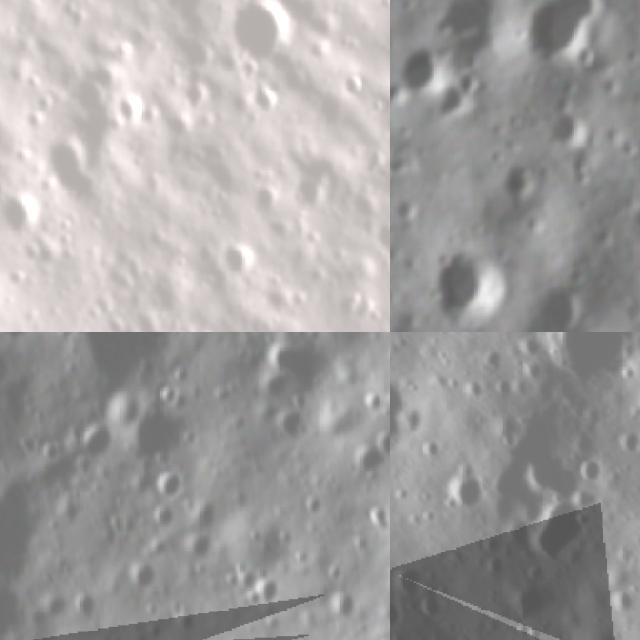crater: (45, 332, 188, 392), (509, 483, 601, 570), (533, 332, 640, 393), (436, 242, 514, 325), (525, 0, 608, 59), (47, 133, 110, 208), (231, 0, 305, 63), (0, 483, 42, 586), (505, 436, 572, 497), (499, 572, 560, 628), (439, 459, 497, 517), (390, 368, 422, 460), (73, 420, 124, 469), (394, 46, 451, 84), (0, 193, 41, 244), (0, 586, 38, 640), (245, 573, 292, 616), (272, 402, 313, 446), (267, 335, 309, 377), (355, 446, 390, 495), (182, 524, 220, 568), (152, 462, 196, 498), (218, 234, 256, 275), (325, 588, 366, 624), (390, 560, 423, 603), (150, 506, 181, 537), (573, 154, 594, 187), (457, 67, 482, 92), (390, 592, 403, 638), (23, 0, 52, 17), (390, 157, 396, 184)
